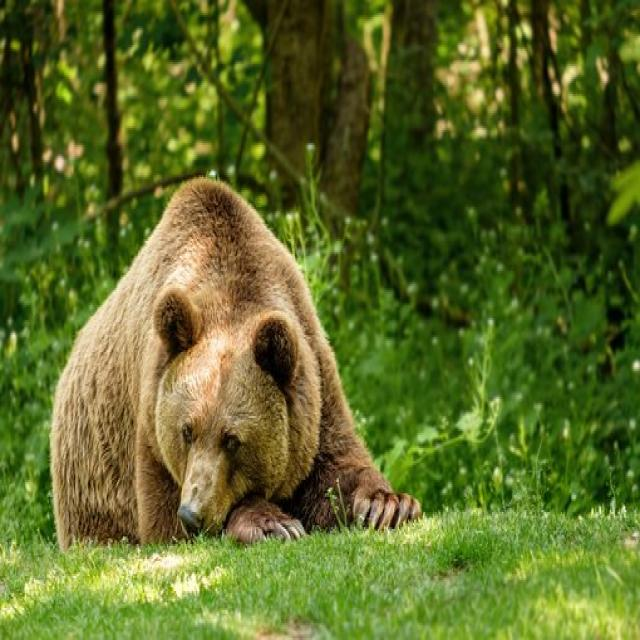Bear: (49, 177, 423, 553)
